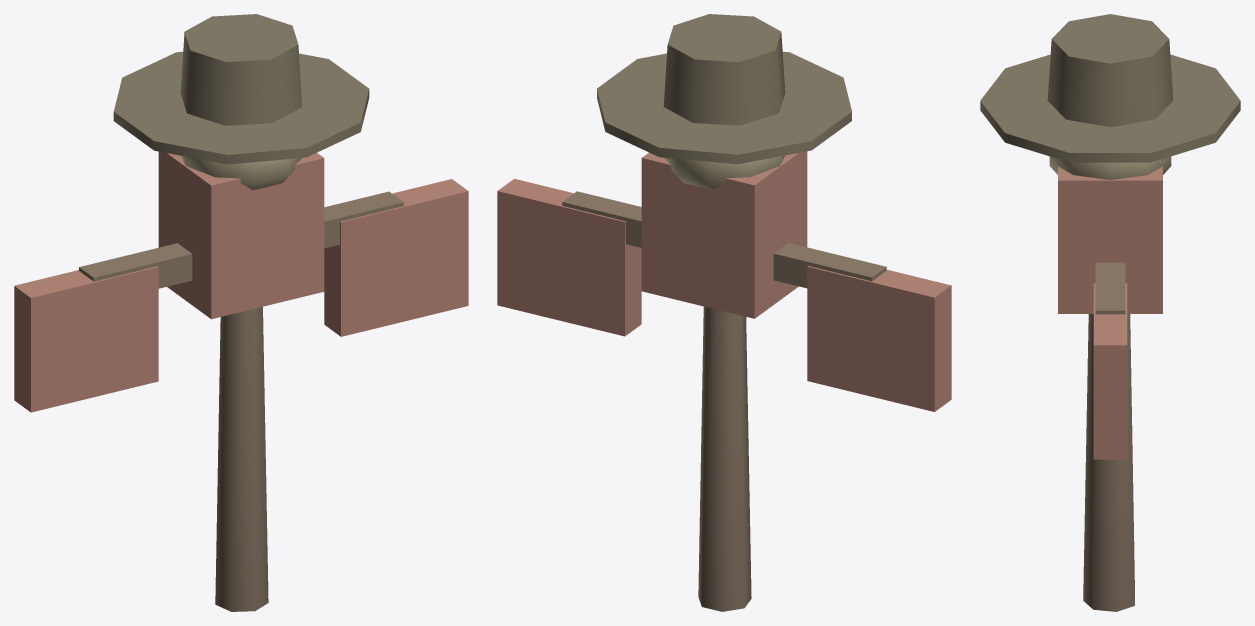
The model's file is scarecrow.glb.
3 renders of one model, left to right at view 1: azimuth 30°, elevation 25°; view 2: azimuth 150°, elevation 25°; view 3: azimuth 270°, elevation 25°, orthographic.
Visible parts, largest first — view 1: scarecrow; view 2: scarecrow; view 3: scarecrow.
Part boxes in pixels (<box>): scarecrow: <box>14,14,468,611</box>; scarecrow: <box>497,14,951,611</box>; scarecrow: <box>980,14,1240,611</box>.
Size of the model in its own units: 2.4 by 2.95 by 1.24.
